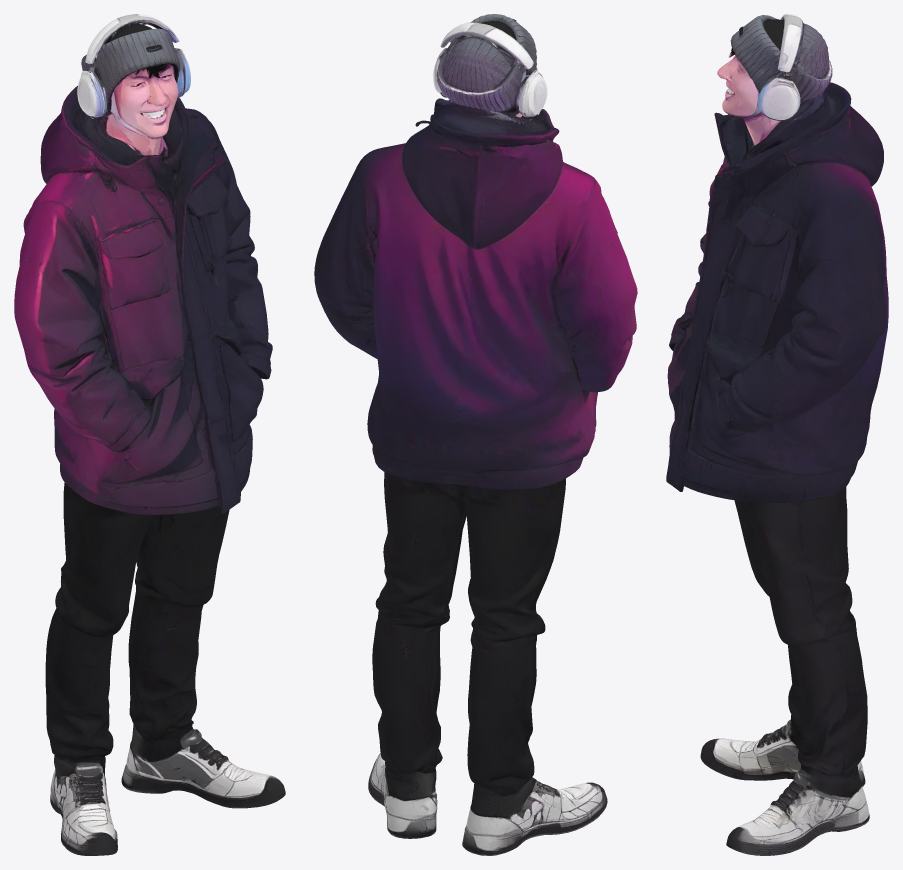
Rendered from avatar.glb.
The picture shows the model from 3 angles, left to right: view 1: azimuth 30°, elevation 25°; view 2: azimuth 150°, elevation 25°; view 3: azimuth 270°, elevation 25°; orthographic projection. The views are drawn at different scales.
Visible parts, largest first — view 1: Mesh_0; view 2: Mesh_0; view 3: Mesh_0.
Boxes of the visible parts, x1=… form: Mesh_0: x1=14, y1=14, x2=285, y2=855; Mesh_0: x1=314, y1=14, x2=637, y2=855; Mesh_0: x1=666, y1=14, x2=888, y2=855.
Bounding box in the file's own units: 0.6632 × 1.9 × 0.4913.
Materials: 1 (1 with a texture image).
